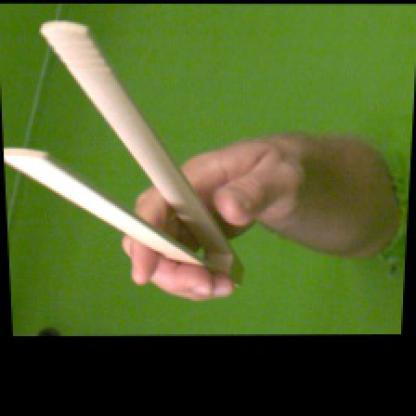Hand: (123, 138, 309, 300)
